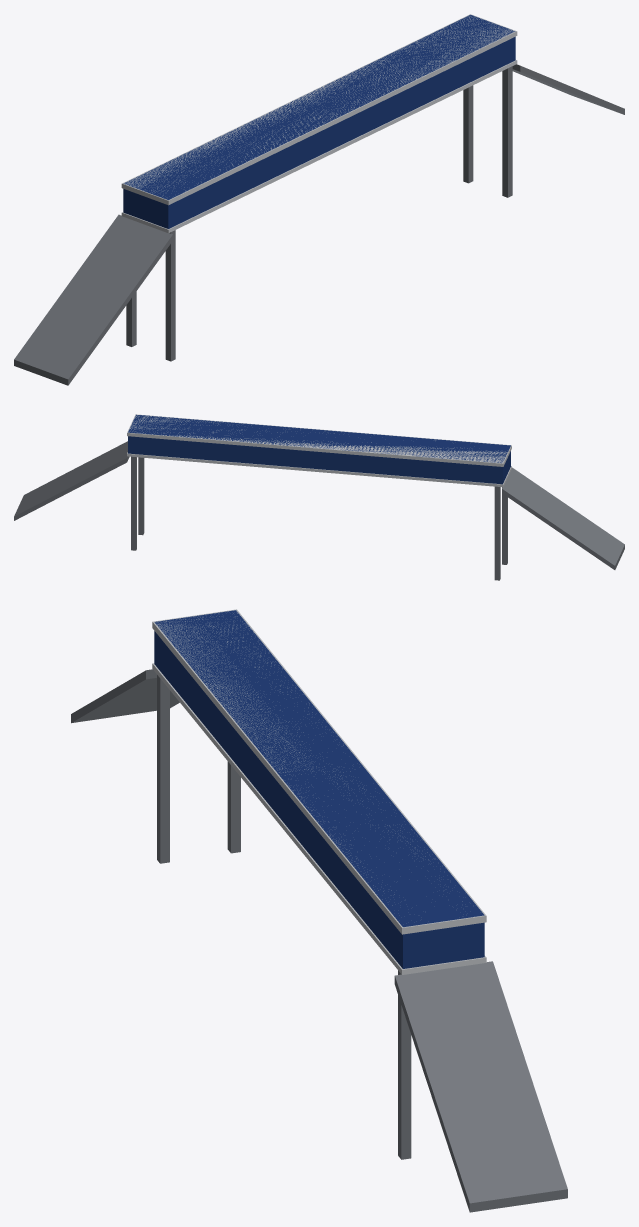
Rendered from footbridge_01780.glb.
3 views of the same model, one above another, from view 1: azimuth 30°, elevation 25°; view 2: azimuth 150°, elevation 25°; view 3: azimuth 270°, elevation 25° (orthographic). The views are drawn at different scales.
Visible parts, largest first — view 1: chunk_0_0; view 2: chunk_0_0; view 3: chunk_0_0.
Part boxes in pixels (box(x1,y1,x2,y2)): chunk_0_0: box(14, 14, 624, 385); chunk_0_0: box(14, 414, 624, 580); chunk_0_0: box(71, 609, 567, 1212).
Size of the model in its own units: 41.34 by 9 by 17.24.
